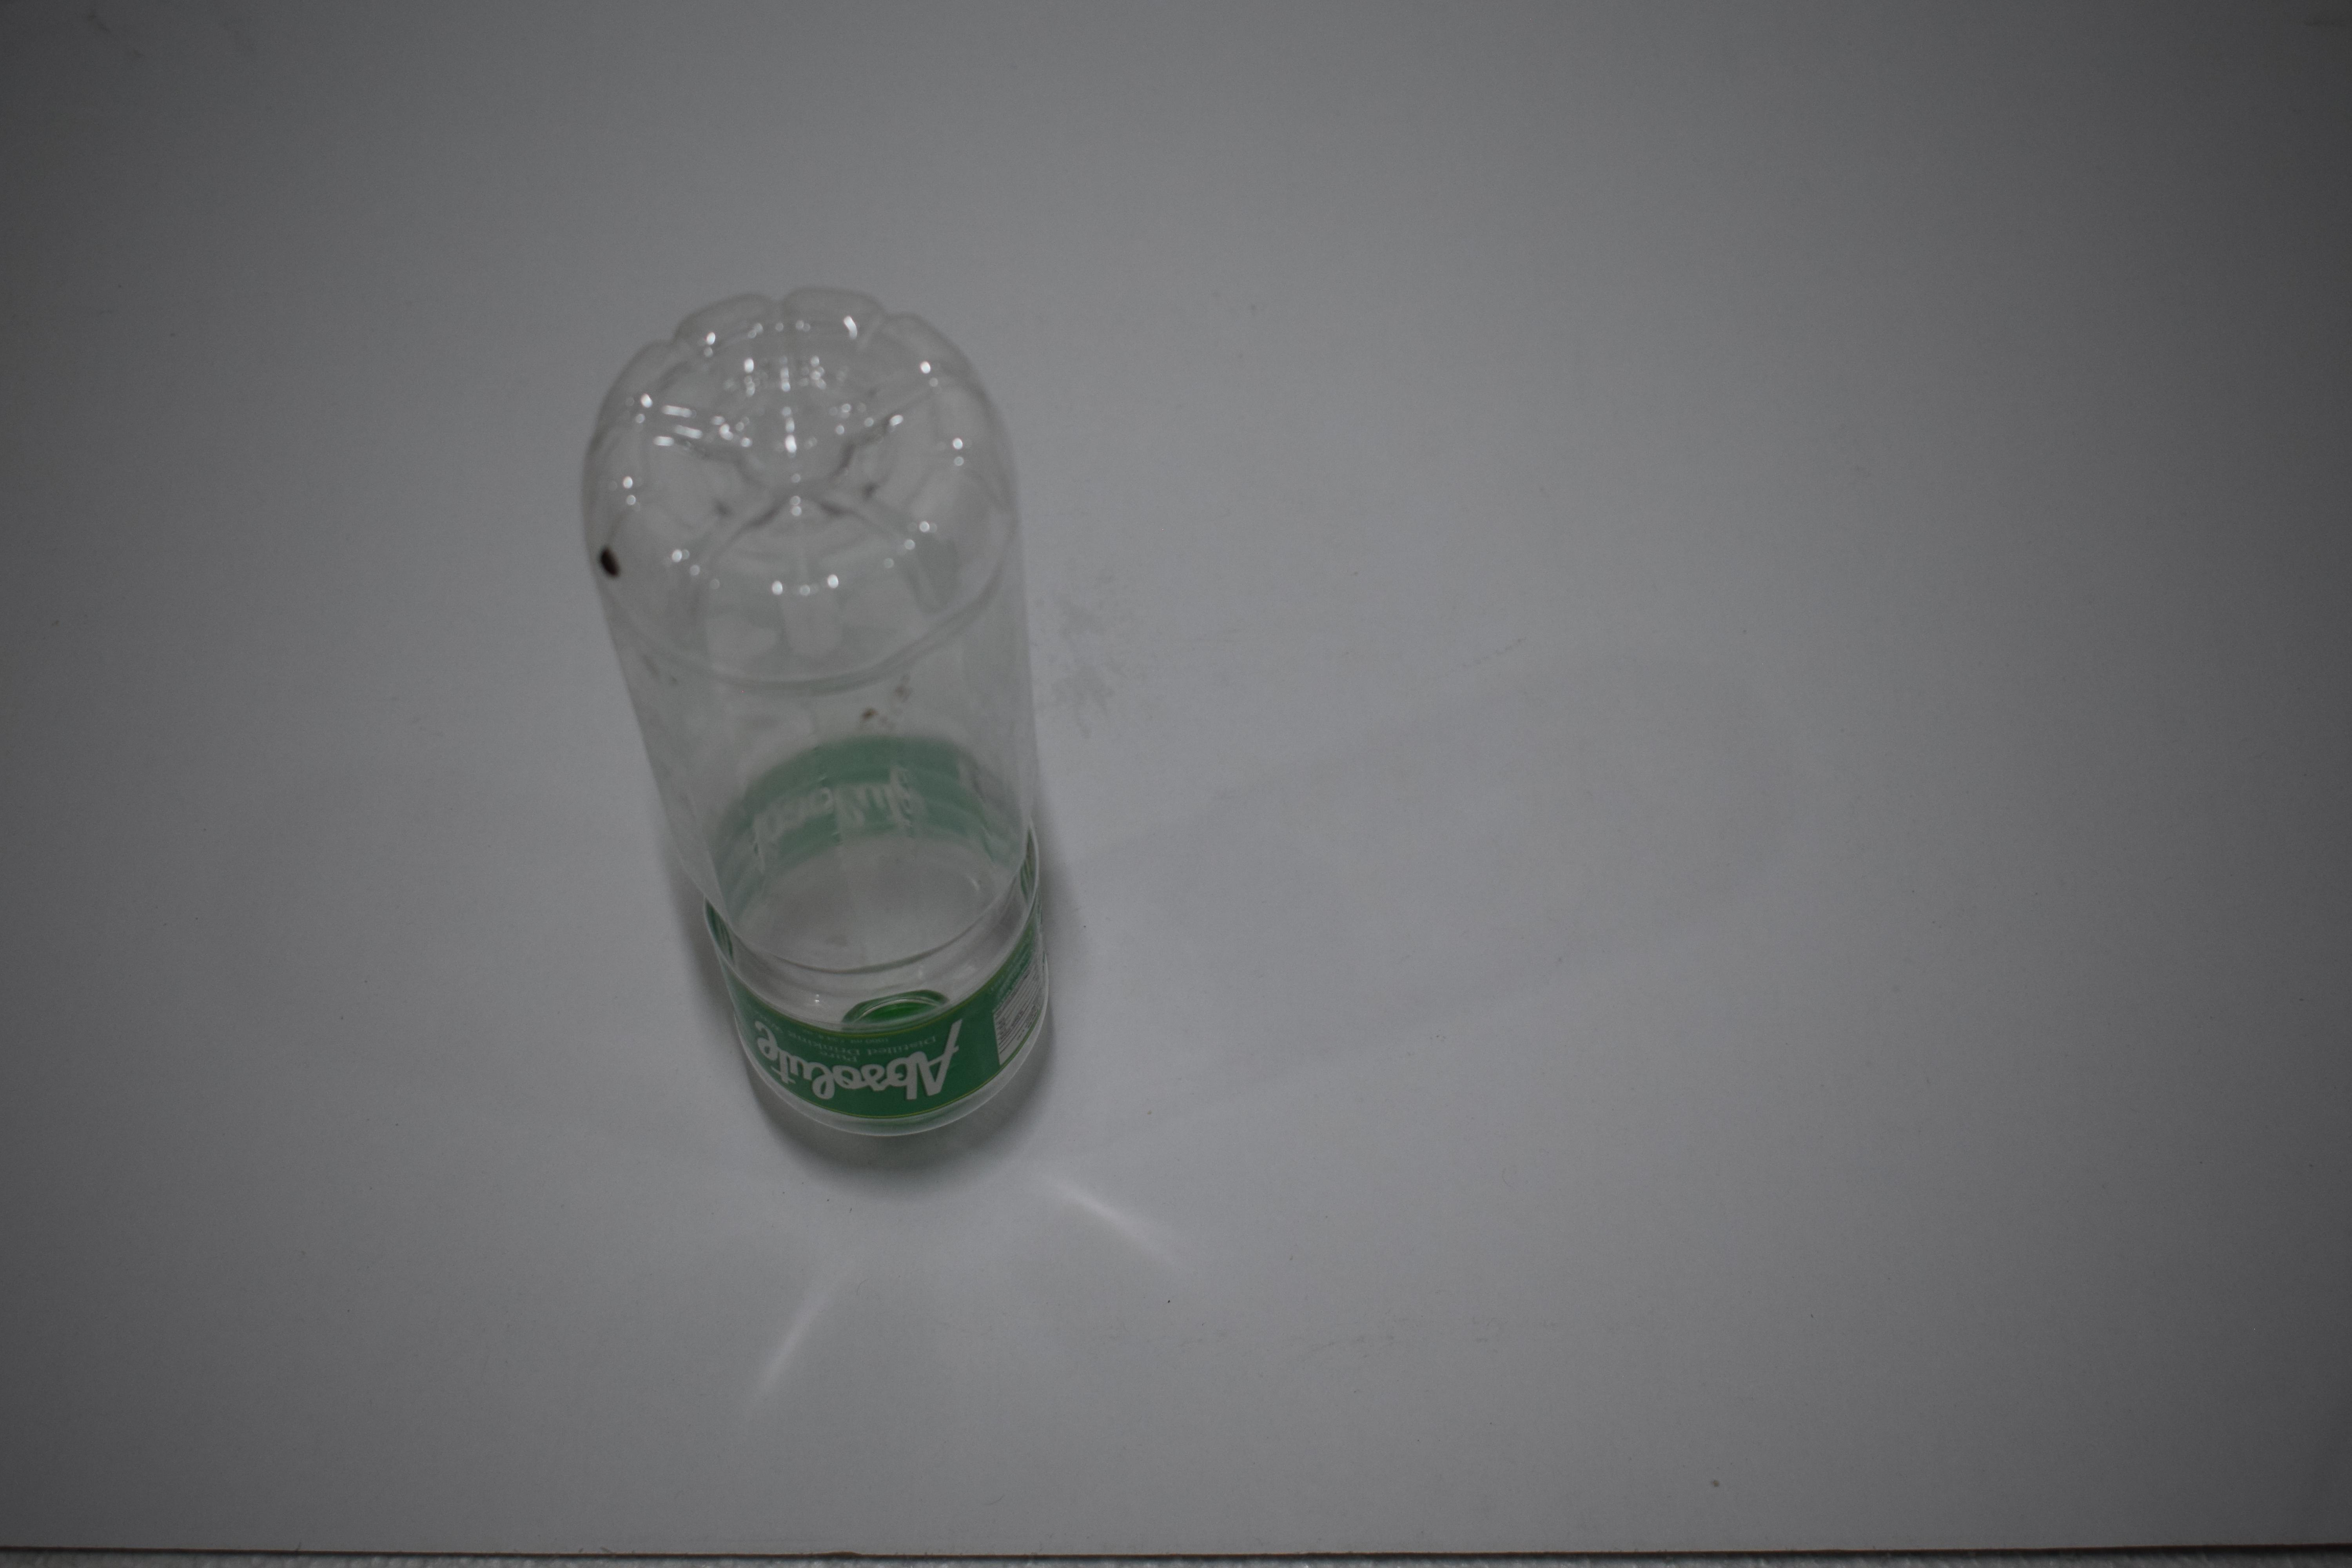bottle: (569, 592, 1071, 686)
